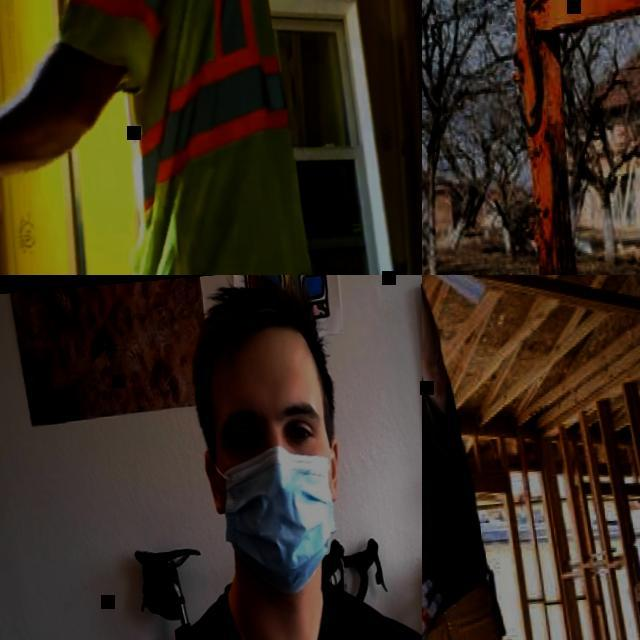vest: (44, 0, 323, 275)
